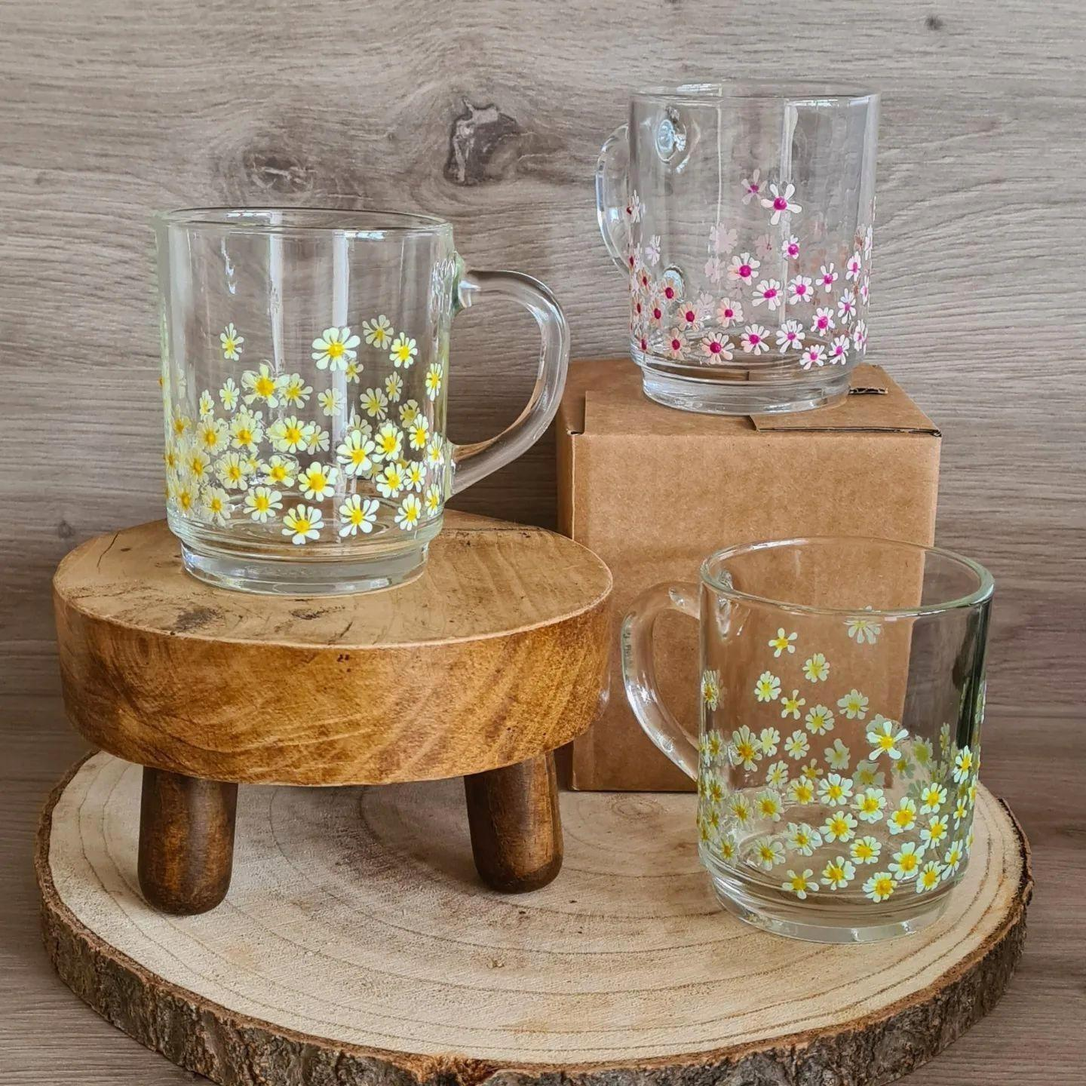glass-mug: (146, 186, 580, 603), (615, 530, 1003, 943), (594, 70, 901, 434)
